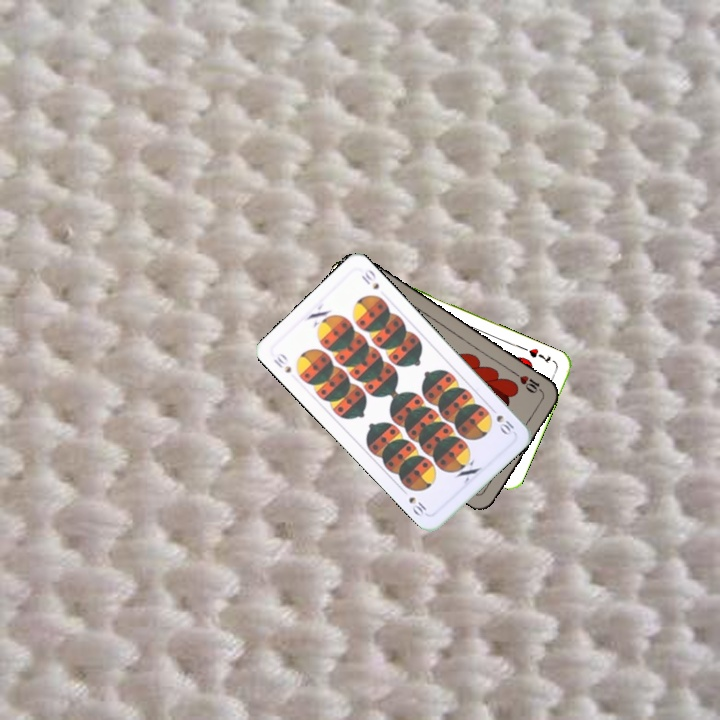H10: (510, 368, 546, 396)
H7: (525, 344, 553, 366)
S10: (492, 411, 517, 438), (269, 349, 294, 376)
